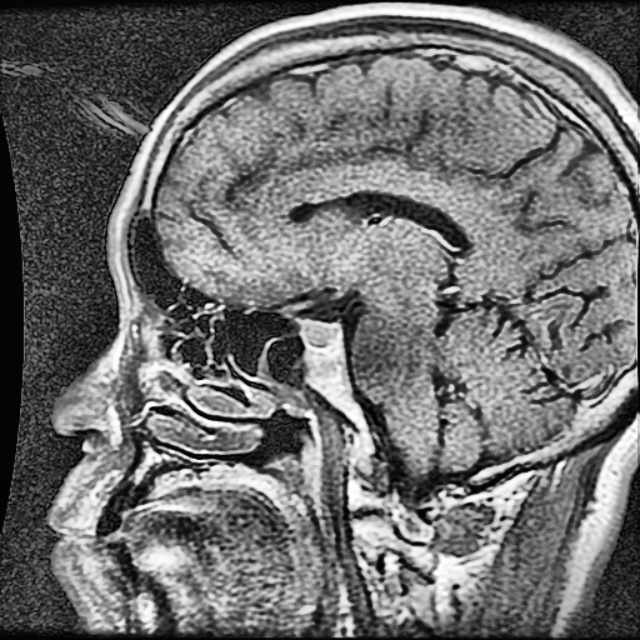Pituitary: (302, 319, 337, 348)
